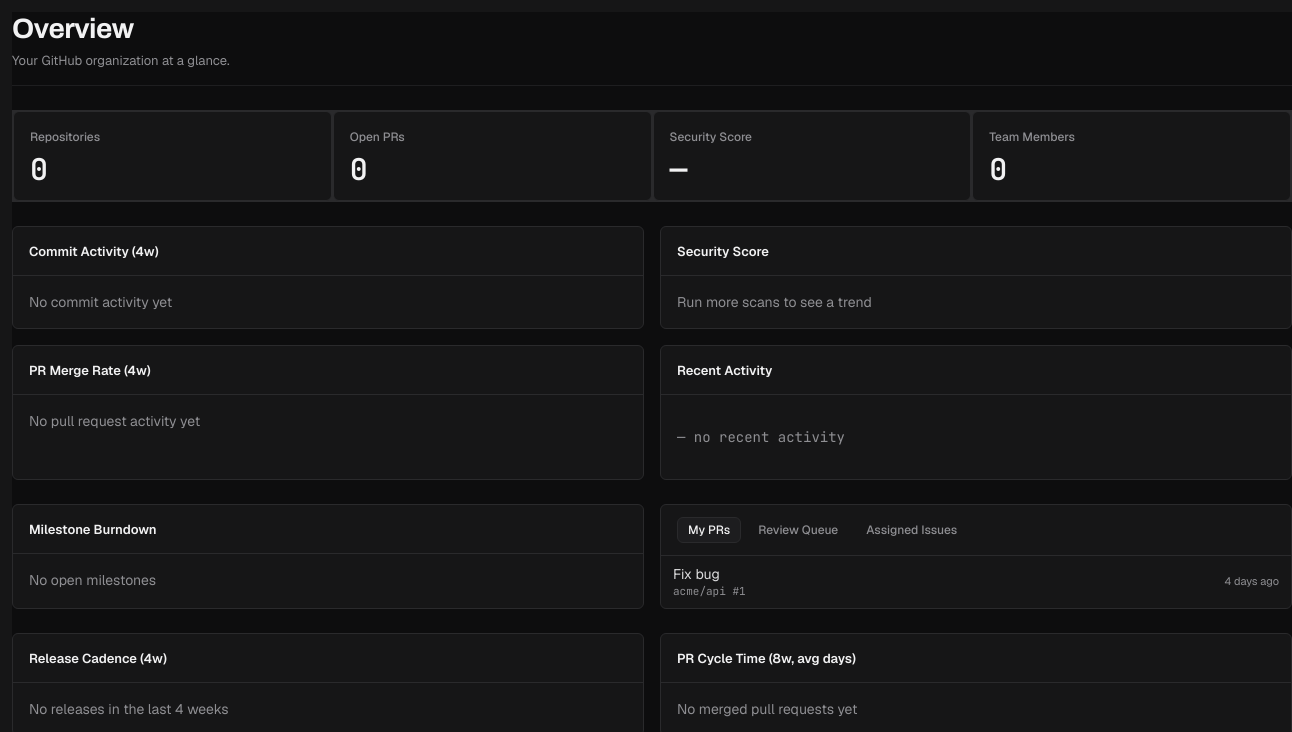
OverviewPage cockpit › fetches My View data and switches tabs
Expected: the text "Fix bug" is shown, [673, 566, 720, 584]
Click the button "Assigned Issues". click: (912, 530)
box: [855, 518, 968, 544]
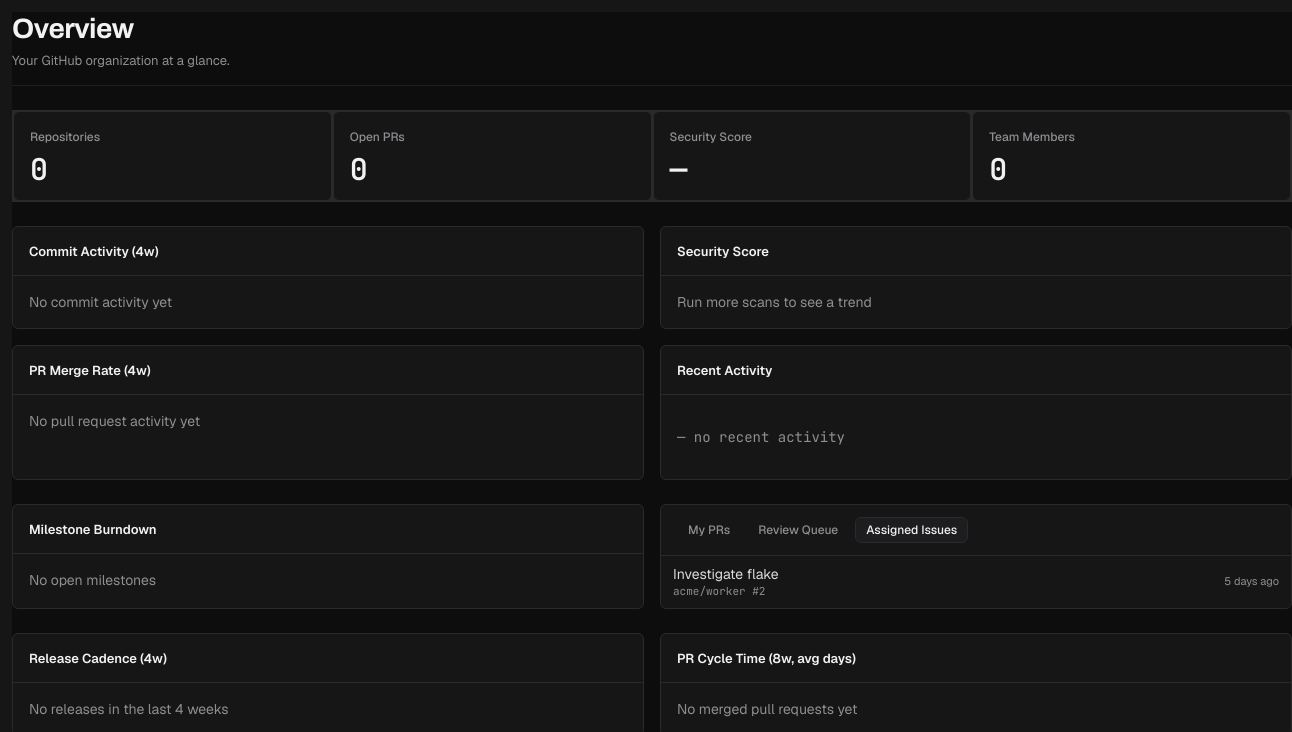
Now the text "Investigate flake" is shown, box [673, 564, 779, 584]
Now the link "Fix bug" is gone
